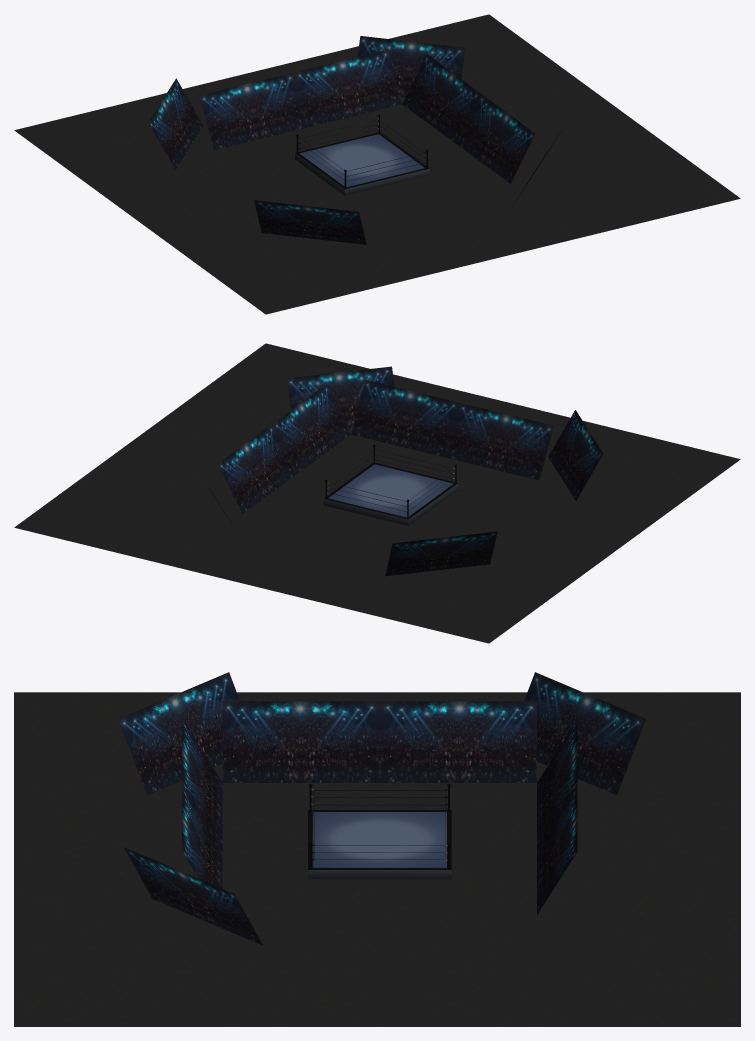
The model's file is 7fight-arena.glb.
3 views of the same model, one above another, from view 1: azimuth 30°, elevation 25°; view 2: azimuth 150°, elevation 25°; view 3: azimuth 270°, elevation 25° (orthographic). The views are drawn at different scales.
Visible parts, largest first — view 1: arena2; view 2: arena2; view 3: arena2.
Part boxes in pixels (box(x1,y1,x2,y2)): arena2: box(14, 14, 740, 314); arena2: box(14, 343, 740, 643); arena2: box(14, 672, 740, 1026).
Bounding box in the file's own units: 33.16 × 3 × 30.45.
1 material, 1 textured.
